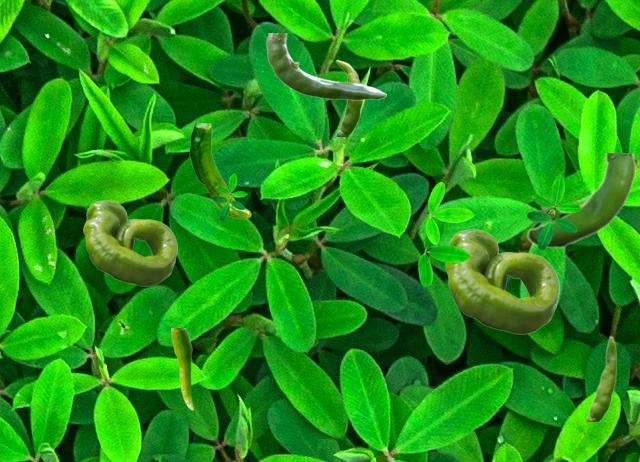green_chili: (445, 229, 558, 333), (526, 153, 634, 248), (83, 200, 176, 285), (266, 33, 385, 99), (189, 123, 250, 218), (587, 335, 616, 420), (335, 59, 362, 135), (171, 328, 192, 409)
